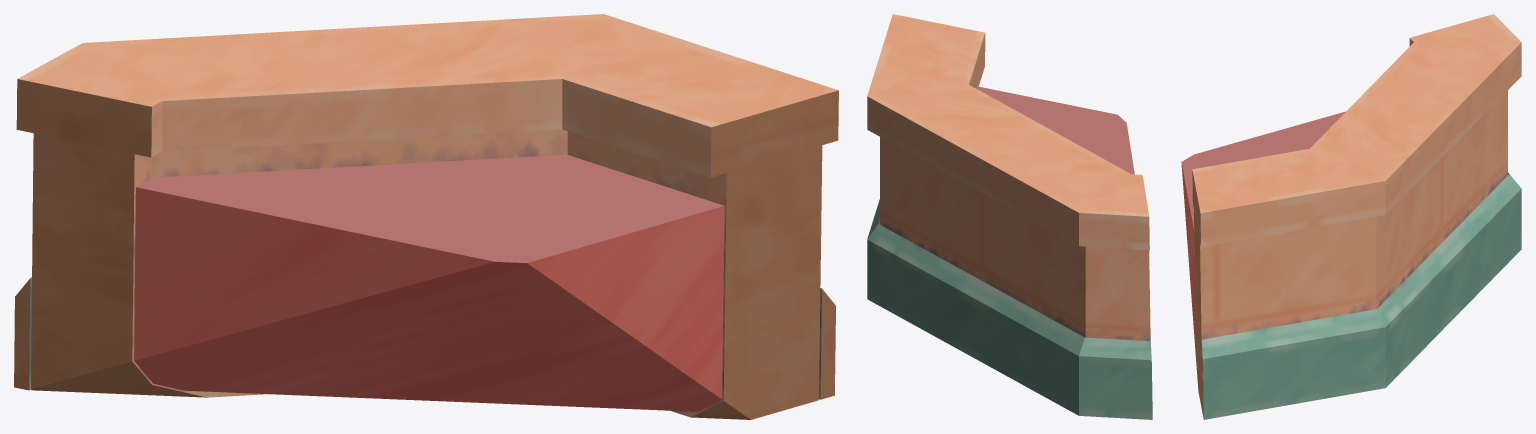
File: vat_s04.fbx
The picture shows the model from 3 angles, left to right: view 1: azimuth 30°, elevation 25°; view 2: azimuth 150°, elevation 25°; view 3: azimuth 270°, elevation 25°; orthographic projection. The views are drawn at different scales.
Visible parts, largest first — view 1: vat_s04; view 2: vat_s04; view 3: vat_s04.
Part boxes in pixels (x1,y1,x2,y2): vat_s04: (14, 14, 838, 419); vat_s04: (867, 14, 1152, 419); vat_s04: (1181, 14, 1521, 419).
Size of the model in its own units: 3.53 by 1.7 by 2.53.
